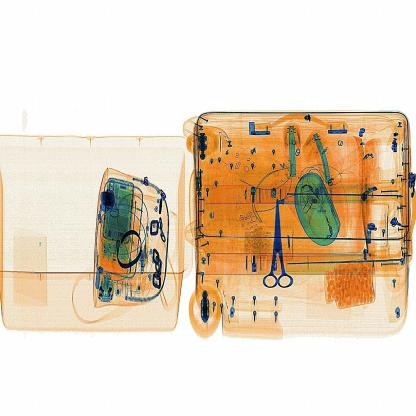gun: (254, 185, 302, 299)
